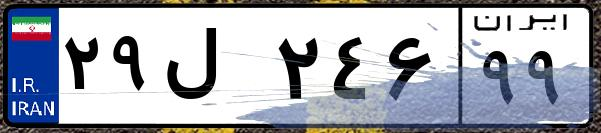2: (270, 28, 330, 110), (57, 26, 110, 100)
4: (330, 28, 385, 110)
6: (385, 28, 445, 110)
9: (475, 38, 525, 113), (525, 38, 570, 115), (110, 28, 158, 98)
ل: (158, 20, 270, 120)
